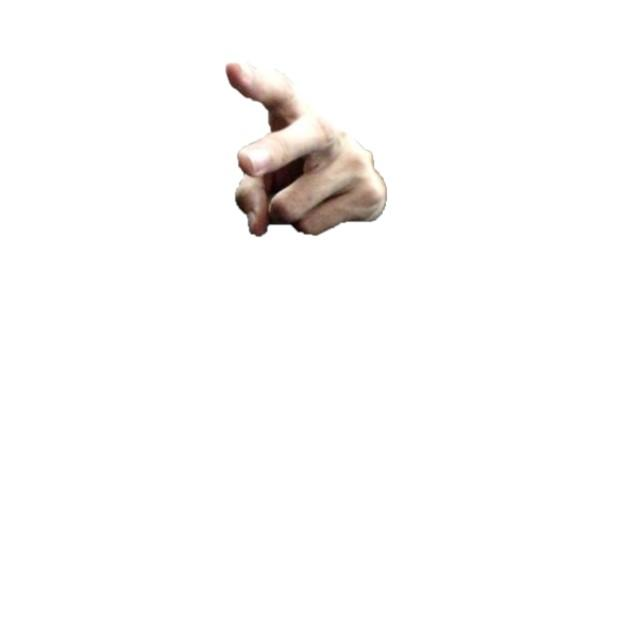tyoki: (223, 61, 388, 237)
